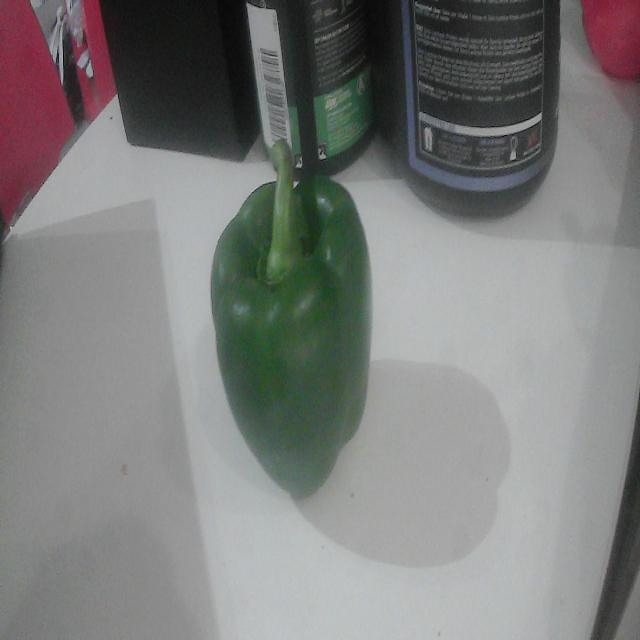Bell Pepper: (212, 140, 371, 499)
